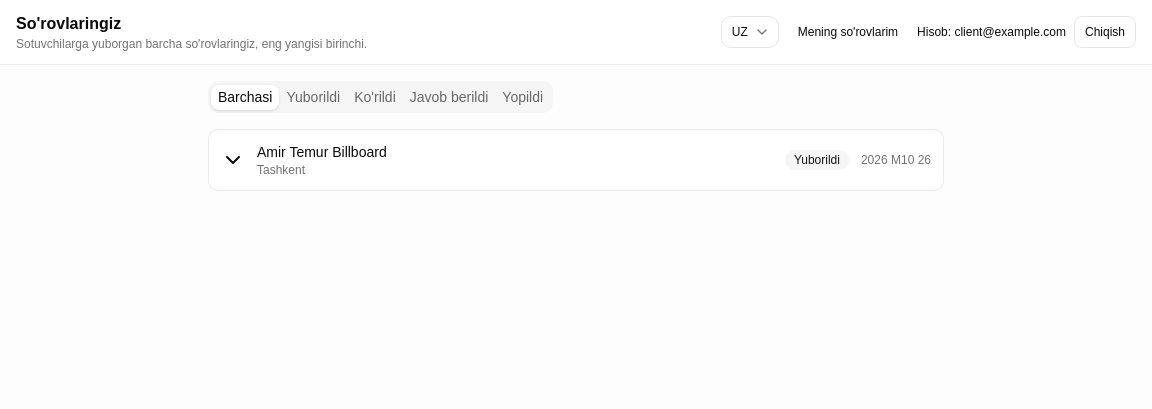
the inquiry history page in Uzbek › expands a row into Uzbek labels, keeping the vendor-authored content as written
Click the button "Amir Temur Billboard Tashkent Yuborildi 2026 M10 26" at [322, 152], box x1=209 y1=130 x2=943 y2=190
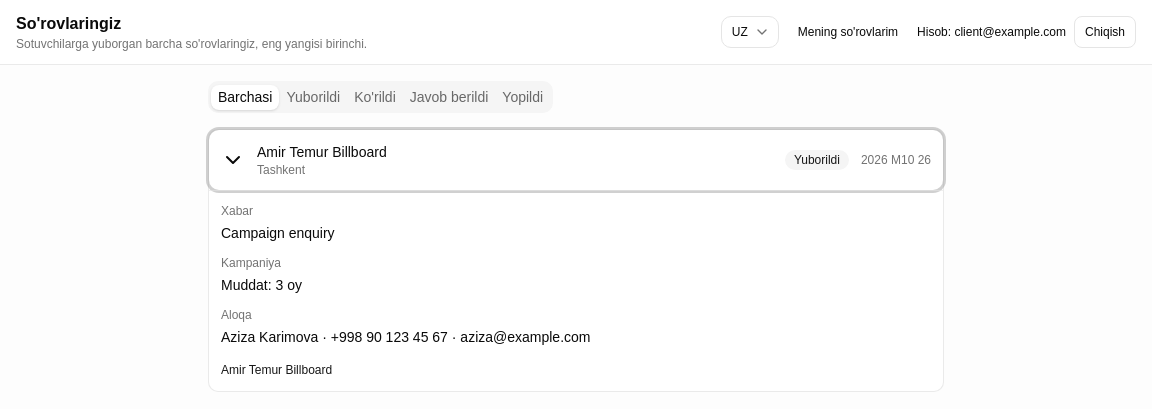
expect the text "Xabar" is shown: met, box x1=221 y1=204 x2=253 y2=218
expect the text "Aloqa" is shown: met, box x1=221 y1=308 x2=252 y2=322
expect the text "Muddat: 3 oy" is shown: met, box x1=221 y1=277 x2=302 y2=293
